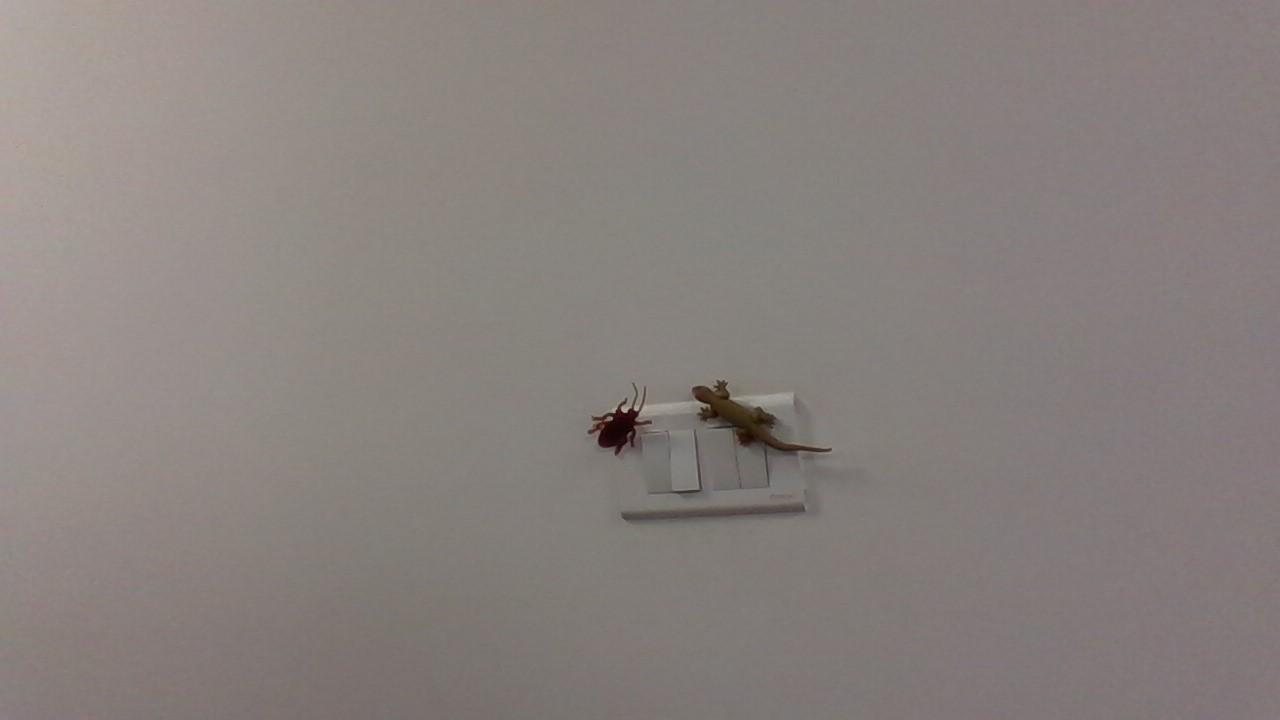cockroach: (577, 369, 660, 474)
lizard: (676, 375, 841, 466)
